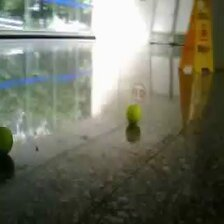tennis: (1, 128, 14, 155), (126, 104, 141, 122)
